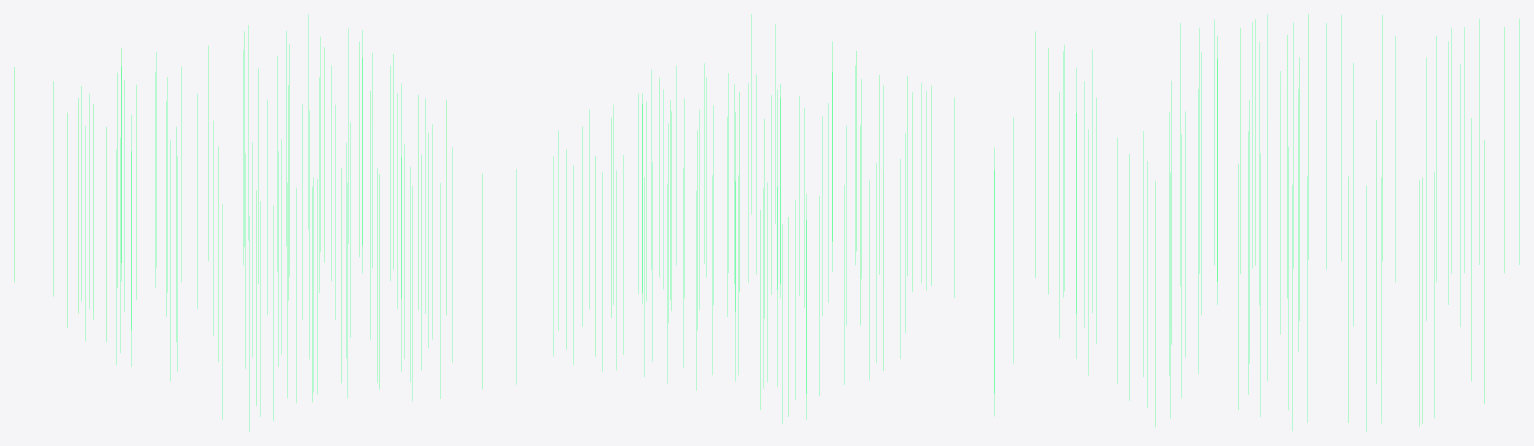
The model's file is stage_lightline_tate_green.glb.
The picture shows the model from 3 angles, left to right: view 1: azimuth 30°, elevation 25°; view 2: azimuth 150°, elevation 25°; view 3: azimuth 270°, elevation 25°; orthographic projection. The views are drawn at different scales.
Size of the model in its own units: 59.75 by 40 by 77.38.
